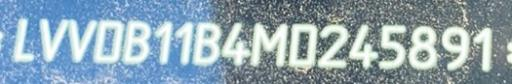letter: (249, 21, 287, 67), (284, 21, 320, 68), (349, 21, 381, 71), (376, 20, 408, 68), (408, 24, 440, 71), (316, 22, 348, 68), (438, 27, 470, 71), (91, 20, 123, 63), (37, 18, 67, 62), (122, 19, 152, 63), (192, 21, 222, 65), (220, 22, 250, 65), (468, 24, 494, 72), (66, 18, 94, 62), (10, 20, 34, 61), (150, 20, 172, 64), (172, 20, 192, 66)
